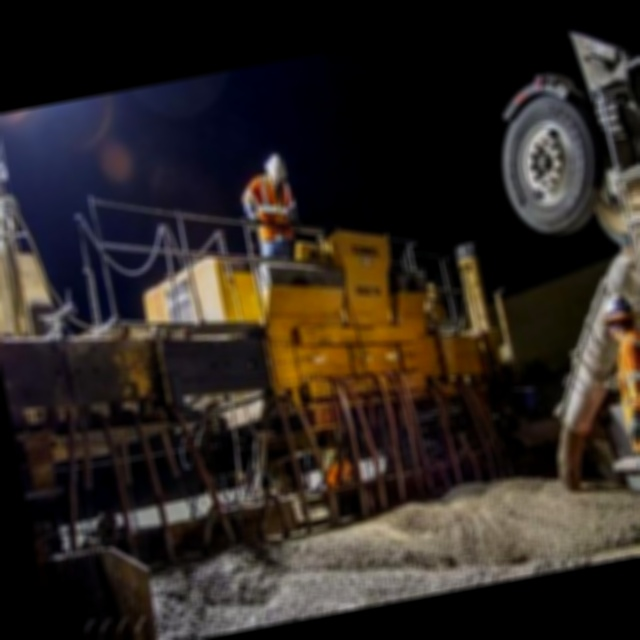Con_Chaleco: (610, 328, 640, 452), (250, 176, 296, 241)
